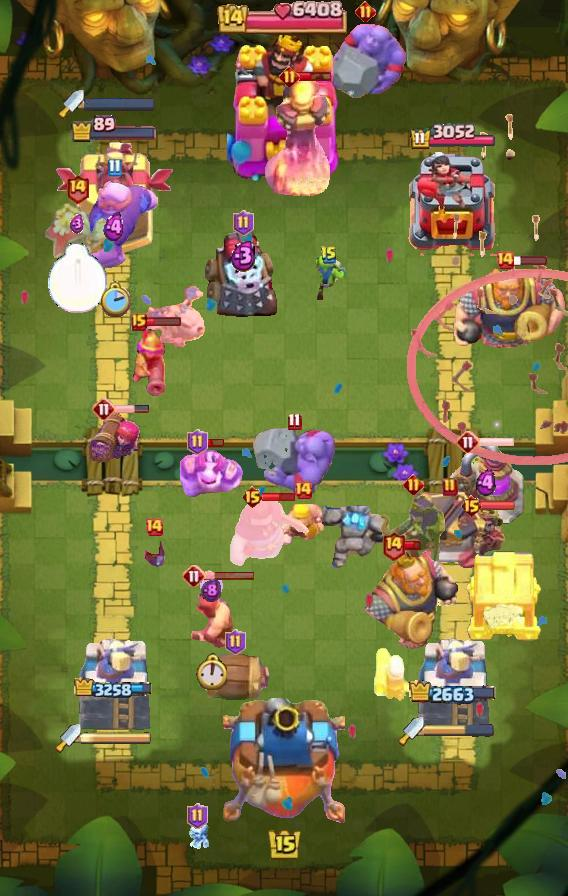archer: (280, 504, 326, 546)
archer-queen: (249, 423, 339, 501), (322, 21, 408, 101)
balloon: (67, 179, 161, 271)
bar: (54, 142, 173, 256), (77, 637, 151, 731), (416, 637, 490, 731)
barbarian-barrel: (141, 539, 167, 569)
barbarian-hut: (376, 493, 451, 579)
bomb: (464, 548, 544, 642)
bomb-tower: (130, 321, 170, 397)
bomber-evolution: (463, 504, 506, 560)
clock: (217, 0, 351, 34)
electro-dragon: (262, 77, 340, 203)
electro-spirit: (230, 239, 257, 272), (102, 212, 125, 243), (476, 469, 496, 497), (201, 577, 221, 602), (70, 214, 84, 234)
elixir: (48, 243, 108, 314), (195, 653, 227, 691), (99, 281, 129, 317)
elixir-golem-small: (180, 446, 246, 500)
emote: (204, 570, 256, 581), (145, 316, 182, 328), (477, 436, 514, 448), (297, 70, 333, 82), (512, 254, 548, 266), (263, 491, 298, 503), (480, 500, 516, 511), (114, 404, 150, 414), (402, 540, 422, 552), (205, 437, 225, 448)
giant-skeleton: (358, 549, 466, 653), (452, 264, 568, 354)
golem: (202, 227, 284, 319)
heal-spirit: (183, 820, 211, 854)
king-tower: (227, 29, 341, 181), (223, 698, 345, 826)
king-tower-bar: (84, 97, 156, 111), (81, 731, 153, 745), (424, 724, 494, 738)
lava-pup: (409, 492, 491, 572)
mega-minion: (89, 412, 145, 474)
mighty-miner: (183, 577, 239, 653)
mini-pekka: (136, 285, 216, 347)
mortar-evolution: (43, 202, 111, 276)
pekka: (447, 444, 525, 526)
queen-tower: (408, 152, 498, 256)
royal-hog: (225, 495, 309, 571)
selected: (70, 115, 158, 143), (409, 123, 497, 151), (410, 681, 499, 708), (74, 677, 154, 701)
skeleton-barrel: (405, 113, 568, 468)
text: (66, 172, 91, 203), (382, 531, 406, 561), (92, 397, 116, 421), (456, 430, 480, 454), (182, 564, 206, 588), (225, 629, 247, 655), (241, 485, 264, 509), (461, 494, 484, 518), (233, 210, 254, 236), (188, 429, 209, 455), (188, 803, 209, 829), (355, 1, 376, 23), (279, 65, 300, 86), (403, 474, 424, 495), (495, 250, 515, 270), (293, 480, 313, 500), (144, 517, 164, 537), (320, 245, 338, 265), (442, 477, 458, 497), (131, 313, 147, 331), (106, 159, 121, 177), (287, 413, 302, 431)
the-log: (197, 654, 273, 704)
tombstone: (372, 645, 414, 703)
valkyrie-evolution: (322, 504, 394, 574)
zap: (310, 256, 348, 300)
